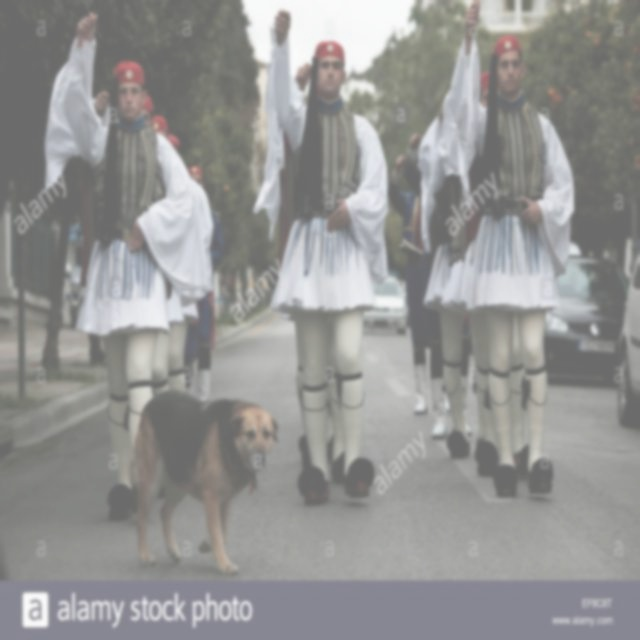pessoa: (57, 11, 195, 520), (257, 1, 393, 504), (274, 44, 366, 478), (278, 52, 372, 462), (418, 92, 495, 464), (390, 147, 448, 420), (148, 112, 192, 399), (134, 91, 174, 401), (183, 162, 220, 406), (168, 132, 195, 392), (429, 308, 477, 444), (252, 135, 292, 269), (474, 66, 490, 110)
